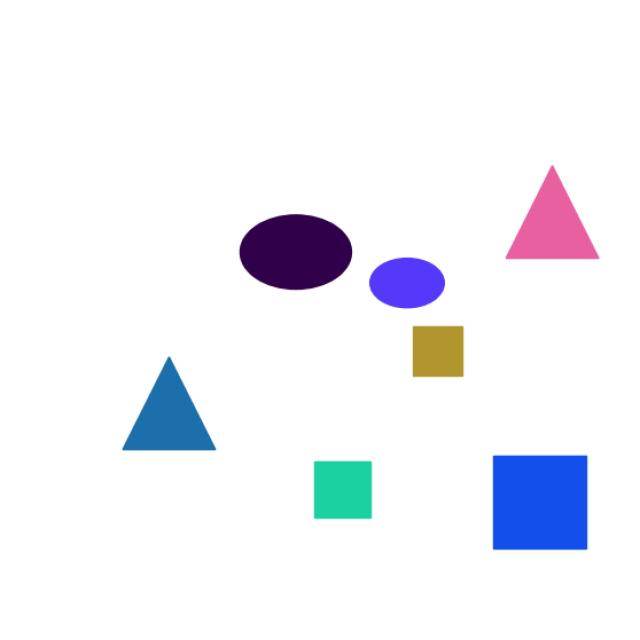Oval: (222, 212, 363, 295), (362, 248, 452, 318)
Triangle: (91, 348, 246, 487), (490, 152, 622, 288)
square: (468, 435, 630, 567), (300, 449, 404, 537), (403, 314, 474, 399)
